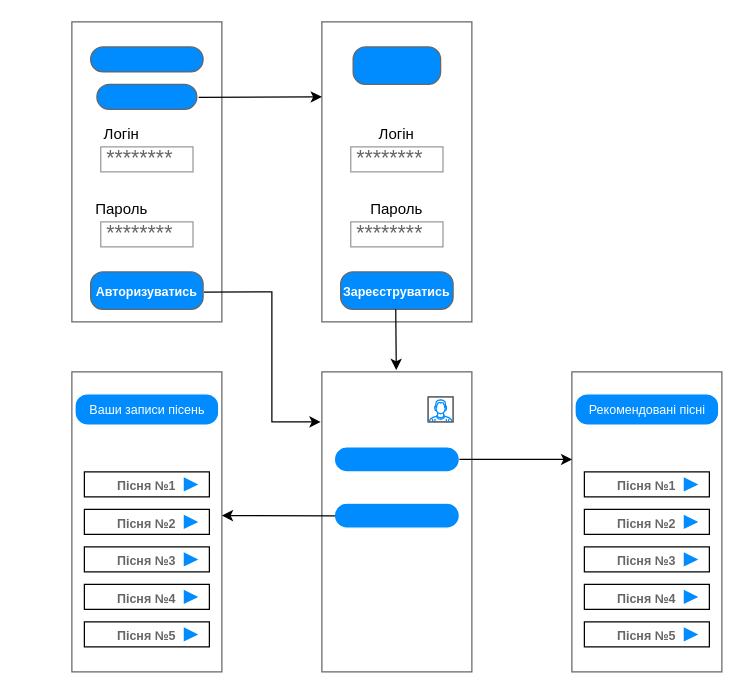
The diagram is 744 pixels wide and 694 high, and some of its shapes have lost their labels. The shapes that lost their labels are listed below. From the top down, each one's centre as x and y in pixels, then its label:
(146,59): Авторизація
(396,65): Реєстрація
(146,96): Створити аккаунт
(396,459): Вибрати пісню
(396,515): Записи пісень
